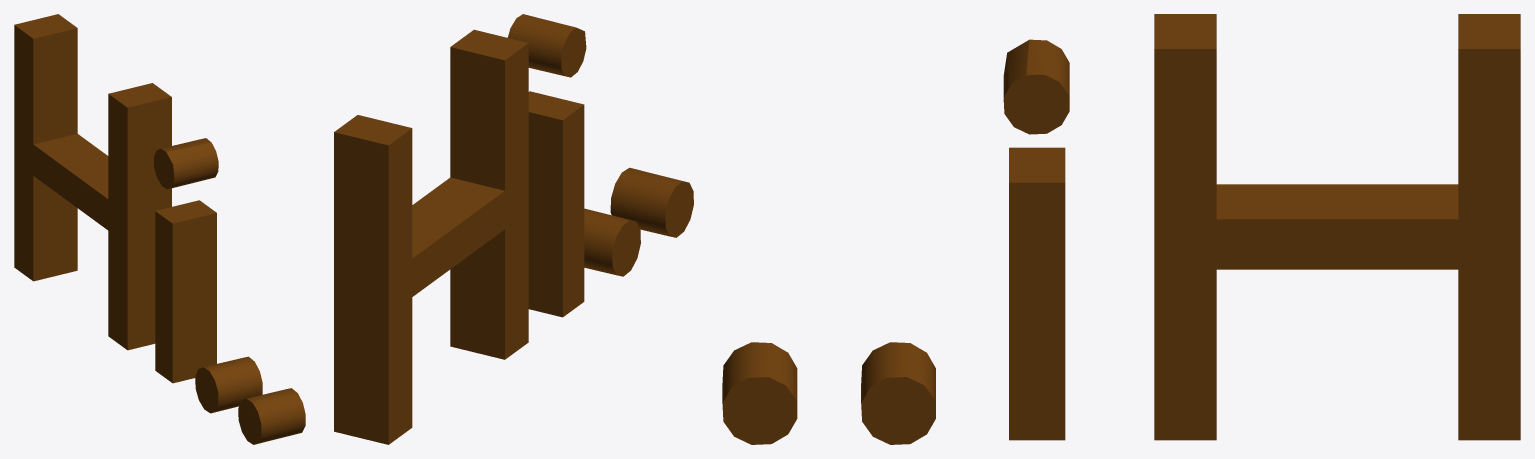
3 views of the same model, side by side, from view 1: azimuth 30°, elevation 25°; view 2: azimuth 150°, elevation 25°; view 3: azimuth 270°, elevation 25° (orthographic). The views are drawn at different scales.
Visible parts, largest first — view 1: Text.001; view 2: Text.001; view 3: Text.001.
Part boxes in pixels (<box>): Text.001: <box>14,14,305,444</box>; Text.001: <box>334,14,693,444</box>; Text.001: <box>722,14,1520,444</box>.
Bounding box in the file's own units: 0.1182 × 0.6264 × 1.14.
